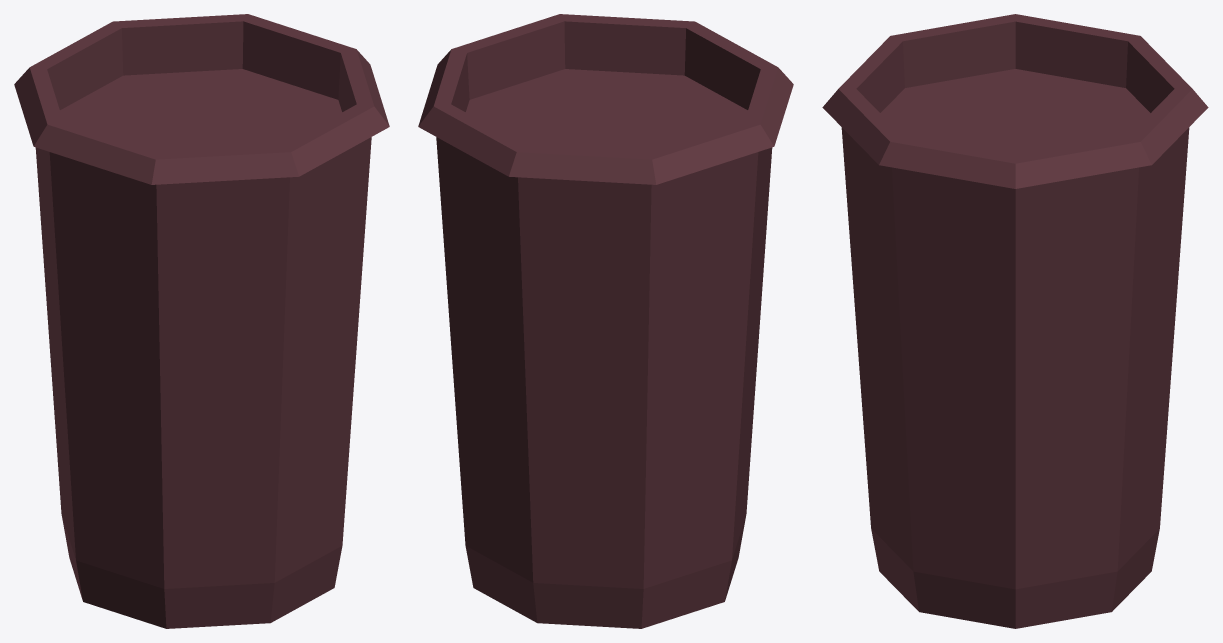
File: drinks-cup-plastic-full.glb
3 views of the same model, side by side, from view 1: azimuth 30°, elevation 25°; view 2: azimuth 150°, elevation 25°; view 3: azimuth 270°, elevation 25° (orthographic).
Parts seen in each view (by area): view 1: cup-plastic-full; view 2: cup-plastic-full; view 3: cup-plastic-full.
Part boxes in pixels (x1,y1,x2,y2): cup-plastic-full: (14, 14, 389, 628); cup-plastic-full: (418, 14, 793, 628); cup-plastic-full: (822, 14, 1208, 628).
Size of the model in its own units: 0.1094 by 0.1508 by 0.1094.
